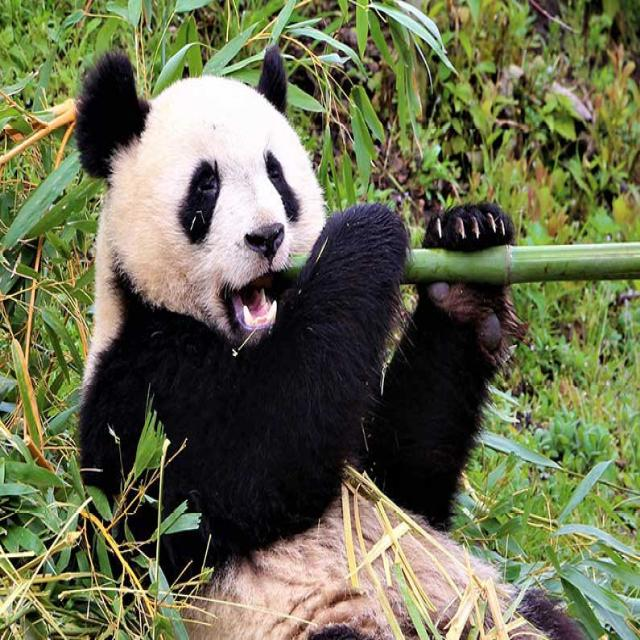Panda: (71, 19, 532, 640)
